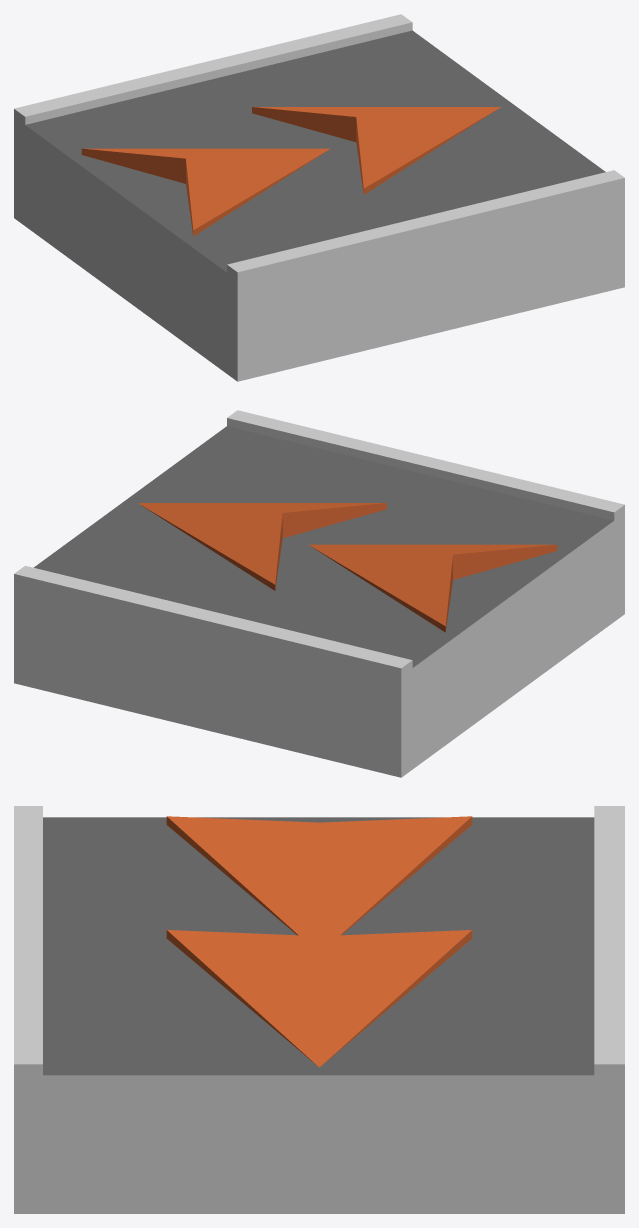
The model's file is ConveyorDouble0.glb.
3 views of the same model, one above another, from view 1: azimuth 30°, elevation 25°; view 2: azimuth 150°, elevation 25°; view 3: azimuth 270°, elevation 25° (orthographic). The views are drawn at different scales.
Visible parts, largest first — view 1: Y+, Z+, X-, DeltaArrow; view 2: Y+, Z-, X-, DeltaArrow; view 3: Y+, X+, DeltaArrow.
Boxes of the visible parts, <box> form: Y+: <box>14,14,624,272</box>; Z+: <box>237,178,624,381</box>; X-: <box>14,109,237,381</box>; DeltaArrow: <box>81,107,500,236</box>; Y+: <box>14,410,624,668</box>; Z-: <box>14,574,401,777</box>; X-: <box>401,505,624,777</box>; DeltaArrow: <box>138,503,557,632</box>; Y+: <box>14,806,624,1075</box>; X+: <box>14,1064,624,1213</box>; DeltaArrow: <box>166,816,472,1067</box>.
Bounding box in the file's own units: 1 × 0.3125 × 1.
